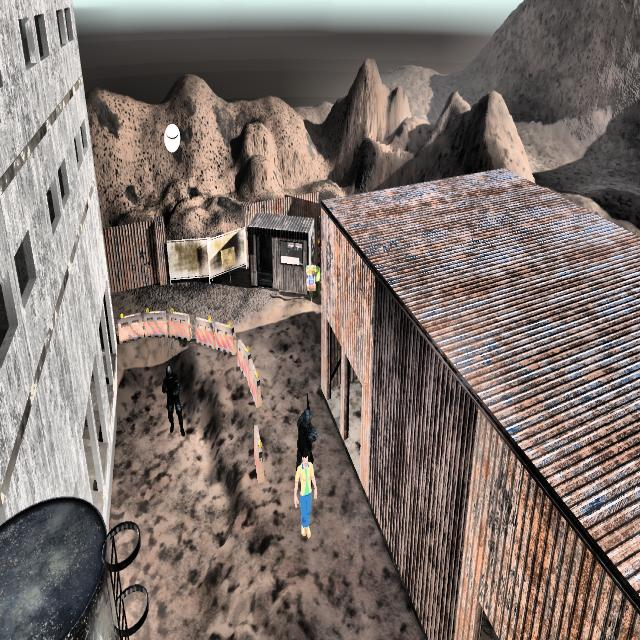bad: (159, 360, 188, 442), (290, 398, 316, 455)
good: (281, 455, 321, 550)
